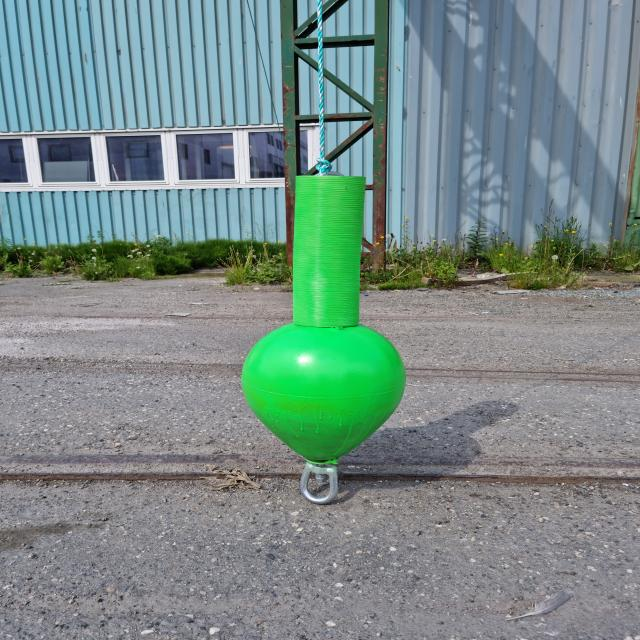green: (243, 174, 404, 463)
